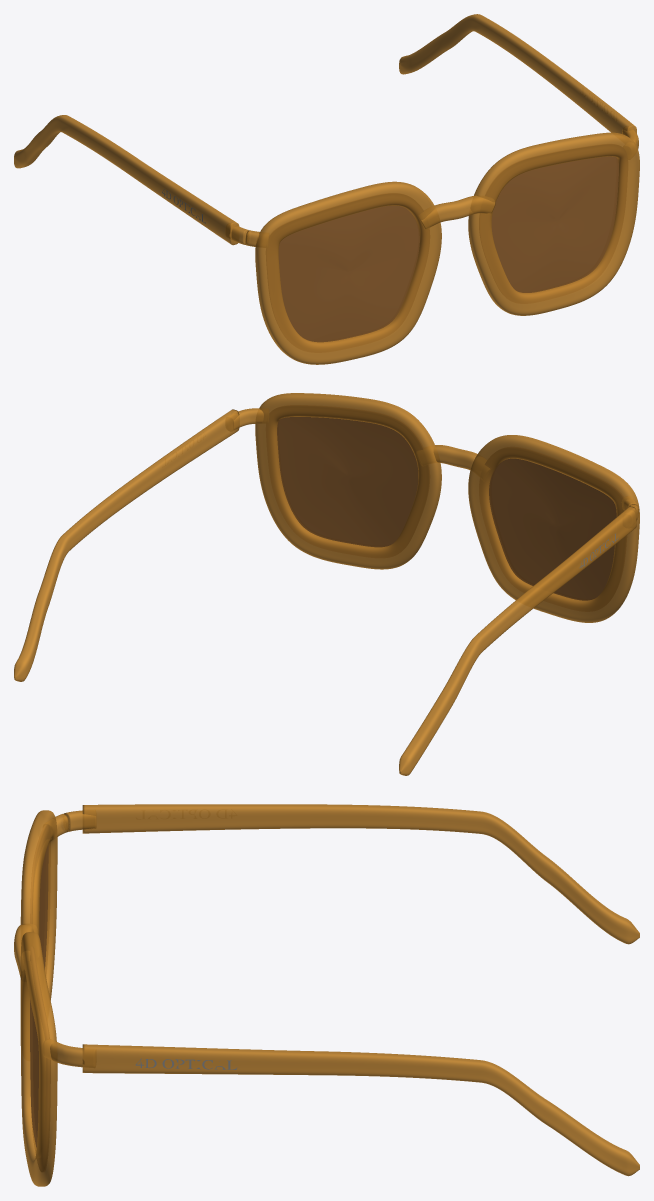
Rendered from prod-sun-w3.glb.
3 renders of one model, top to bottom at view 1: azimuth 30°, elevation 25°; view 2: azimuth 150°, elevation 25°; view 3: azimuth 270°, elevation 25°, orthographic. The views are drawn at different scales.
Visible parts, largest first — view 1: Optical lens -1, Optical lens 1, Frame rim -1, Frame rim 1, Temple 1, Temple -1, Bridge, Hinge -1; view 2: Optical lens 1, Optical lens -1, Frame rim 1, Frame rim -1, Temple -1, Temple 1, Bridge, Hinge 1; view 3: Temple -1, Temple 1, Frame rim 1, Frame rim -1, Optical lens 1, Optical lens -1, Hinge 1, Hinge -1, Bridge.
Part boxes in pixels (x1=…): Optical lens -1: x1=266, y1=193, x2=429, y2=352; Optical lens 1: x1=479, y1=144, x2=627, y2=303; Frame rim -1: x1=255, y1=181, x2=441, y2=364; Frame rim 1: x1=468, y1=132, x2=639, y2=315; Temple 1: x1=399, y1=14, x2=636, y2=141; Temple -1: x1=14, y1=115, x2=239, y2=245; Bridge: x1=418, y1=195, x2=495, y2=229; Hinge -1: x1=226, y1=223, x2=268, y2=247; Optical lens 1: x1=266, y1=405, x2=429, y2=557; Optical lens -1: x1=479, y1=447, x2=626, y2=611; Frame rim 1: x1=255, y1=393, x2=441, y2=569; Frame rim -1: x1=468, y1=435, x2=639, y2=622; Temple -1: x1=399, y1=506, x2=636, y2=775; Temple 1: x1=14, y1=409, x2=239, y2=681; Bridge: x1=417, y1=445, x2=490, y2=480; Hinge 1: x1=226, y1=408, x2=268, y2=430; Temple -1: x1=82, y1=804, x2=639, y2=944; Temple 1: x1=82, y1=1044, x2=639, y2=1176; Frame rim 1: x1=20, y1=932, x2=57, y2=1186; Frame rim -1: x1=20, y1=810, x2=57, y2=1000; Optical lens 1: x1=30, y1=947, x2=50, y2=1171; Optical lens -1: x1=30, y1=825, x2=50, y2=973; Hinge 1: x1=43, y1=1039, x2=95, y2=1067; Hinge -1: x1=43, y1=810, x2=96, y2=840; Bridge: x1=14, y1=924, x2=37, y2=981.
Size of the model in its own units: 0.136 by 0.0518 by 0.1415.
